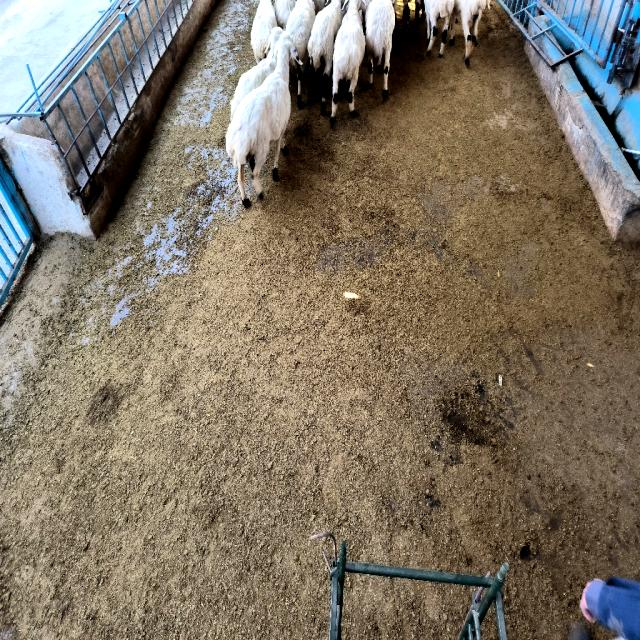sheep: (226, 32, 302, 206), (230, 27, 282, 119), (330, 0, 365, 124), (308, 0, 342, 114), (285, 0, 316, 108), (365, 0, 395, 99), (450, 0, 490, 68), (424, 0, 454, 58), (251, 0, 278, 62), (274, 0, 296, 28)
